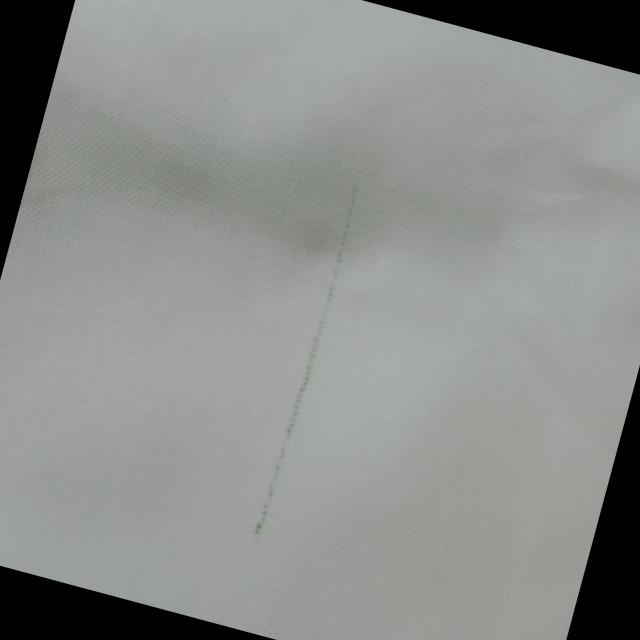contamination: (242, 176, 374, 550)
